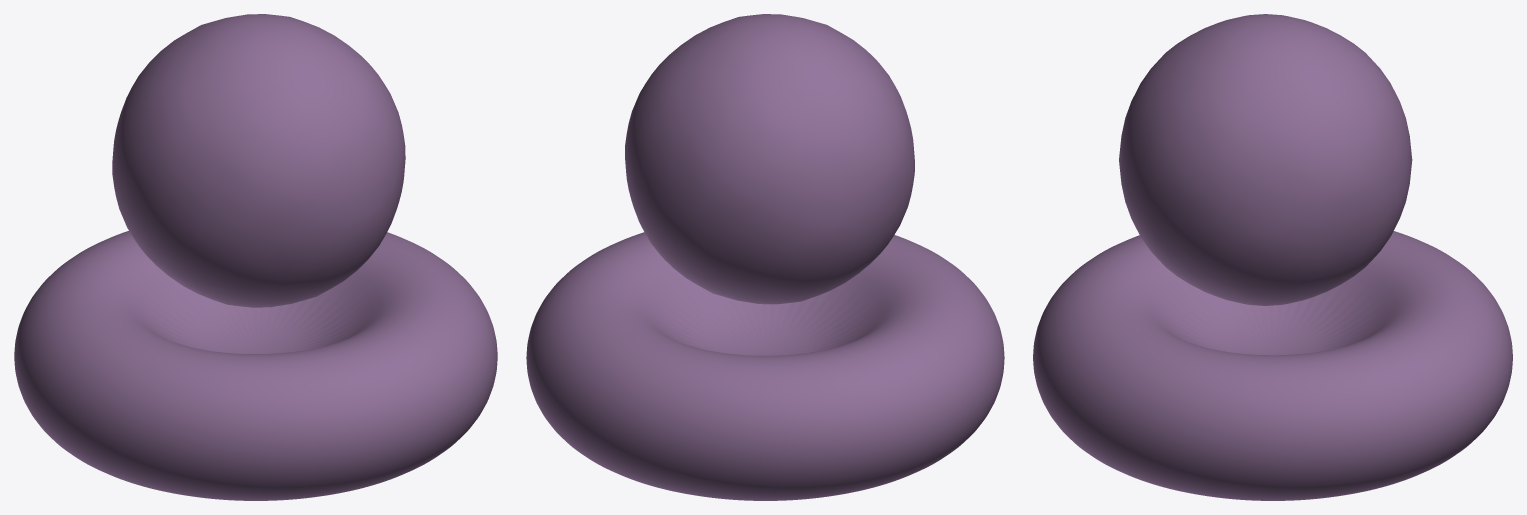
Rendered from ExportedBlenderFBXFile.fbx.
3 renders of one model, left to right at view 1: azimuth 30°, elevation 25°; view 2: azimuth 150°, elevation 25°; view 3: azimuth 270°, elevation 25°, orthographic.
Visible parts, largest first — view 1: Torus_000, Torus_001; view 2: Torus_000, Torus_001; view 3: Torus_000, Torus_001.
Part boxes in pixels (<box>): Torus_000: <box>14,231,497,500</box>; Torus_001: <box>112,14,405,307</box>; Torus_000: <box>526,232,1004,500</box>; Torus_001: <box>625,14,914,304</box>; Torus_000: <box>1033,231,1512,500</box>; Torus_001: <box>1119,14,1412,305</box>.
Size of the model in its own units: 3.27 by 3 by 3.27.
